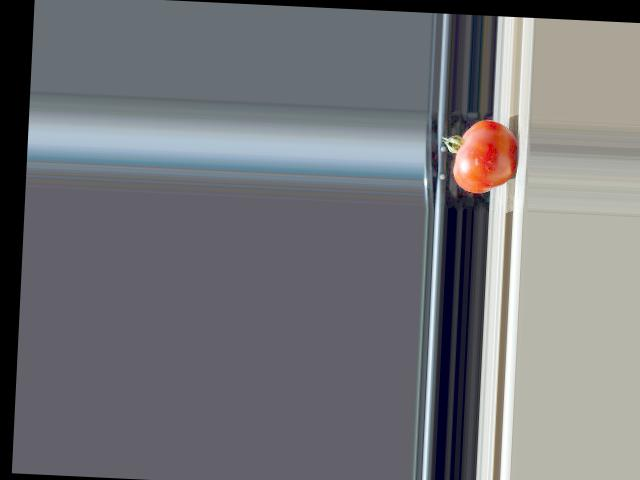tomato: (439, 117, 517, 194)
